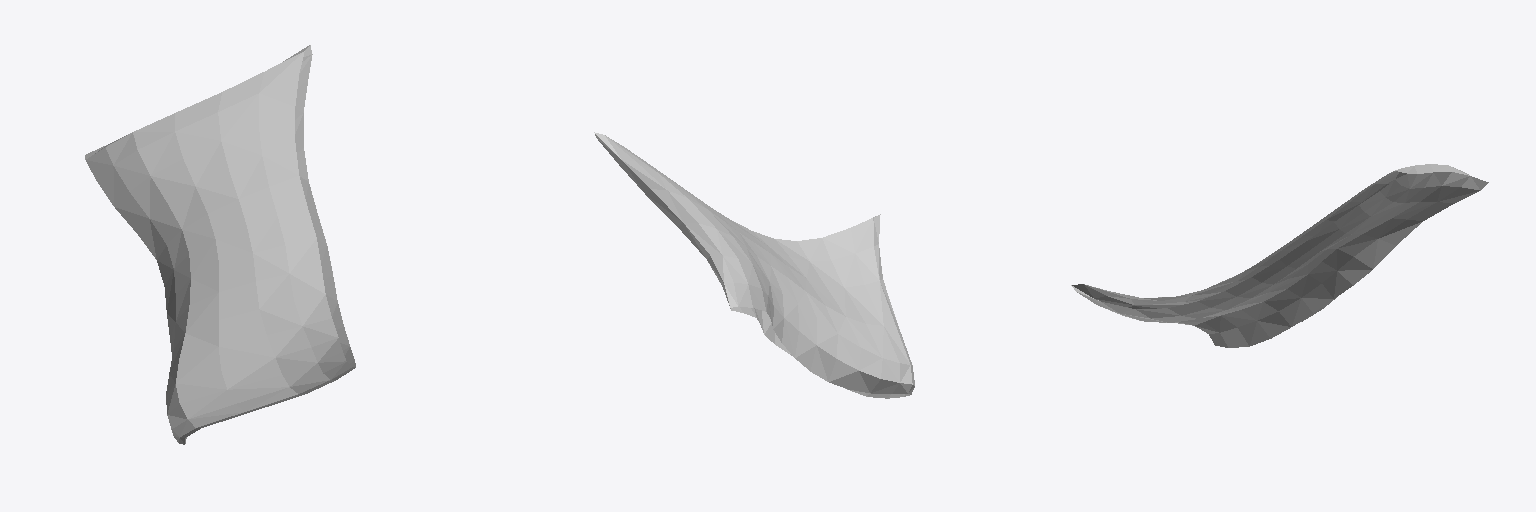
File: hyoglossus_left.obj
The picture shows the model from 3 angles: view 1: azimuth 30°, elevation 25°; view 2: azimuth 150°, elevation 25°; view 3: azimuth 270°, elevation 25°; orthographic projection.
Parts seen in each view (by area): view 1: Hyoglossus_Muscle_Left; view 2: Hyoglossus_Muscle_Left; view 3: Hyoglossus_Muscle_Left.
Part boxes in pixels (bbox=[...]): Hyoglossus_Muscle_Left: bbox=[85, 45, 355, 444]; Hyoglossus_Muscle_Left: bbox=[594, 132, 914, 398]; Hyoglossus_Muscle_Left: bbox=[1071, 164, 1488, 347].
Bounding box in the file's own units: 0.2727 × 0.3191 × 0.4323.